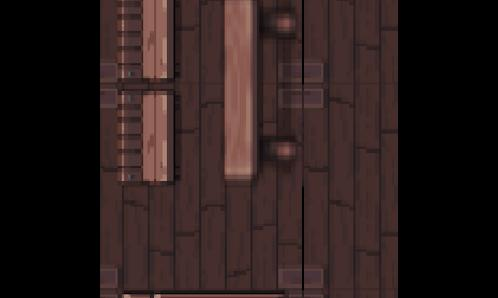Obstacle: (208, 0, 313, 202), (106, 86, 185, 194), (109, 0, 186, 83)
